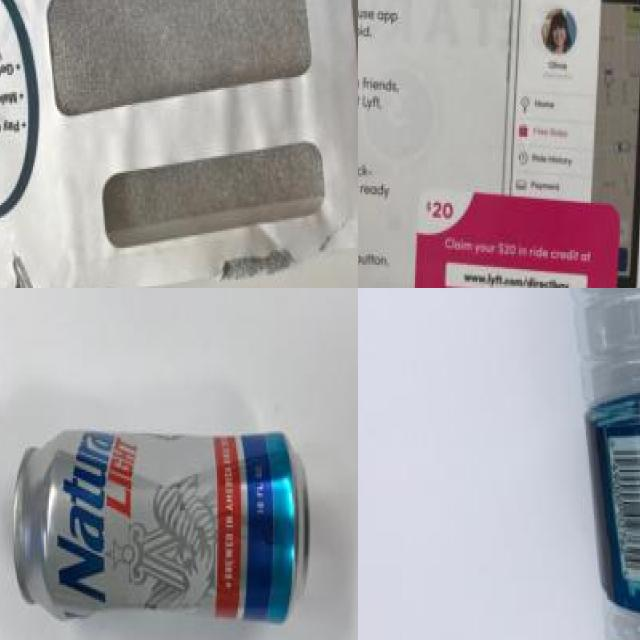paper: (0, 0, 358, 288), (358, 0, 640, 288)
plastic: (9, 407, 330, 640), (556, 288, 640, 640)
